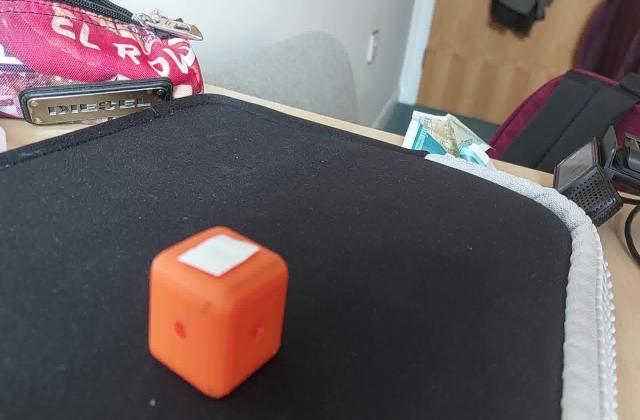cube: (144, 218, 293, 399)
white: (171, 231, 265, 278)
